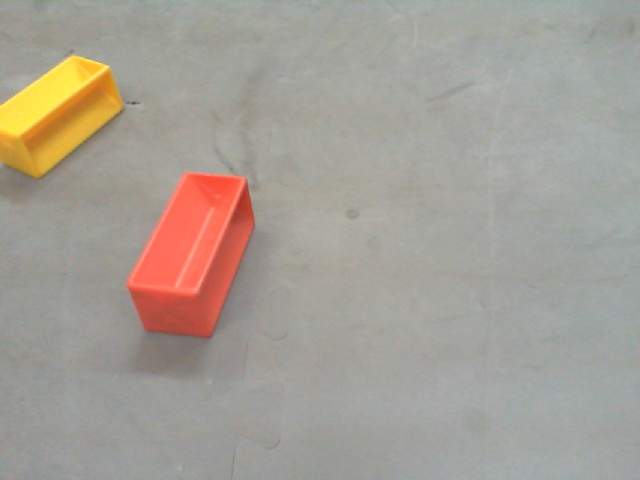RedSample: (125, 172, 257, 340)
YellowSample: (1, 52, 129, 183)
